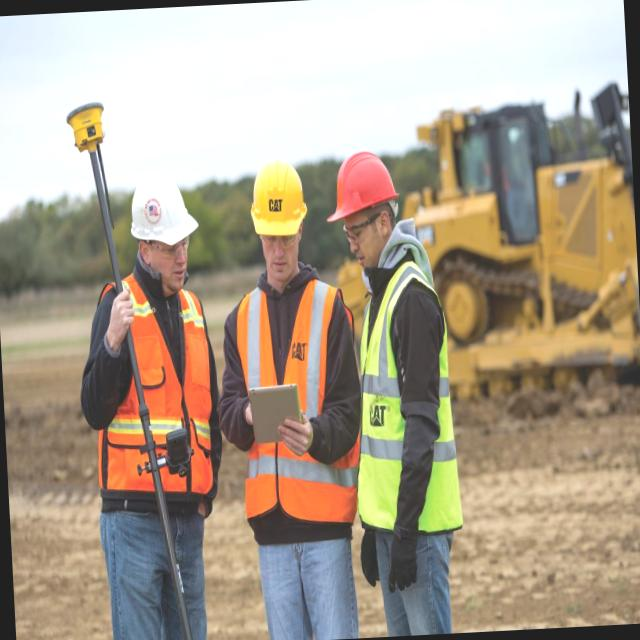helmet: (121, 167, 204, 266), (321, 151, 400, 231), (242, 160, 312, 242)
vest: (220, 264, 365, 553), (339, 265, 465, 563), (90, 289, 220, 505)
